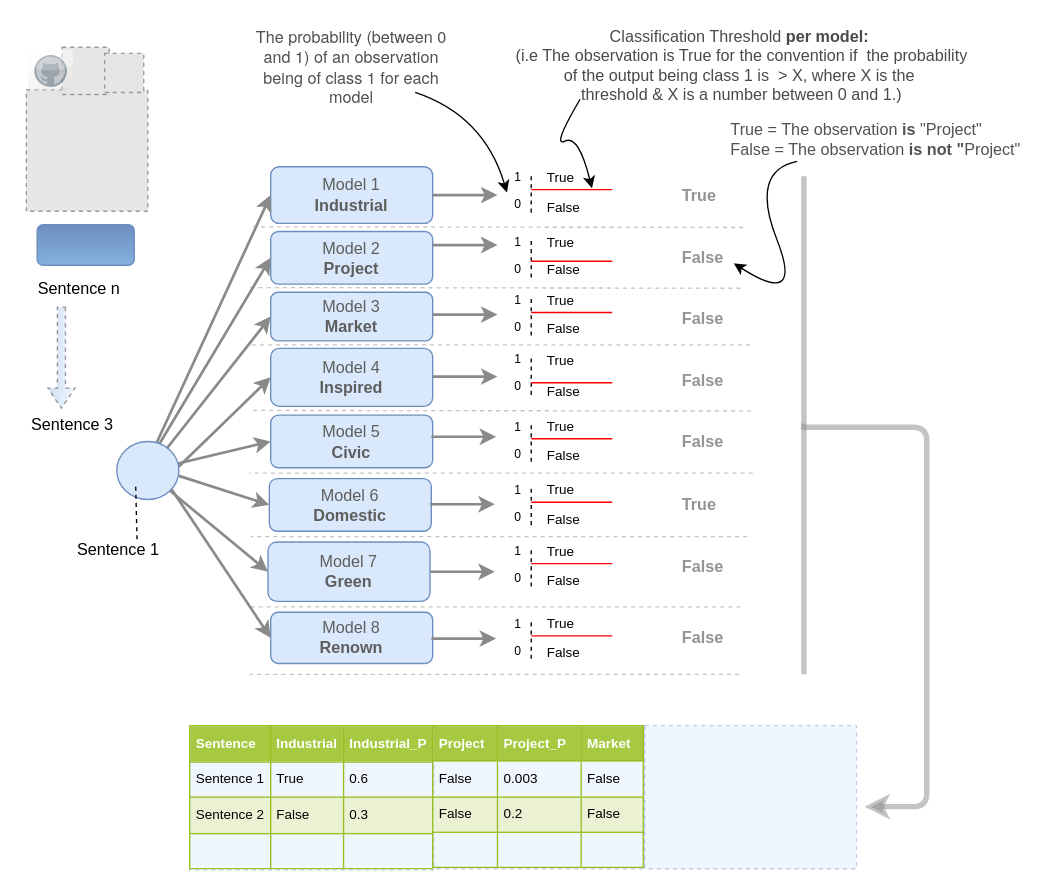
The diagram is 1048 pixels wide and 894 high, and some of its shapes have lost their labels. Grey dashed boxes stand in for pictures. The centre of each missing label's shape, as x and y in pixels:
Market_P Inspired Inspired_p 0.231 True 0.6 0.51 False 0.3: the point at 750,796
Sentence 2: the point at 147,470
Tokeniser: the point at 85,244
